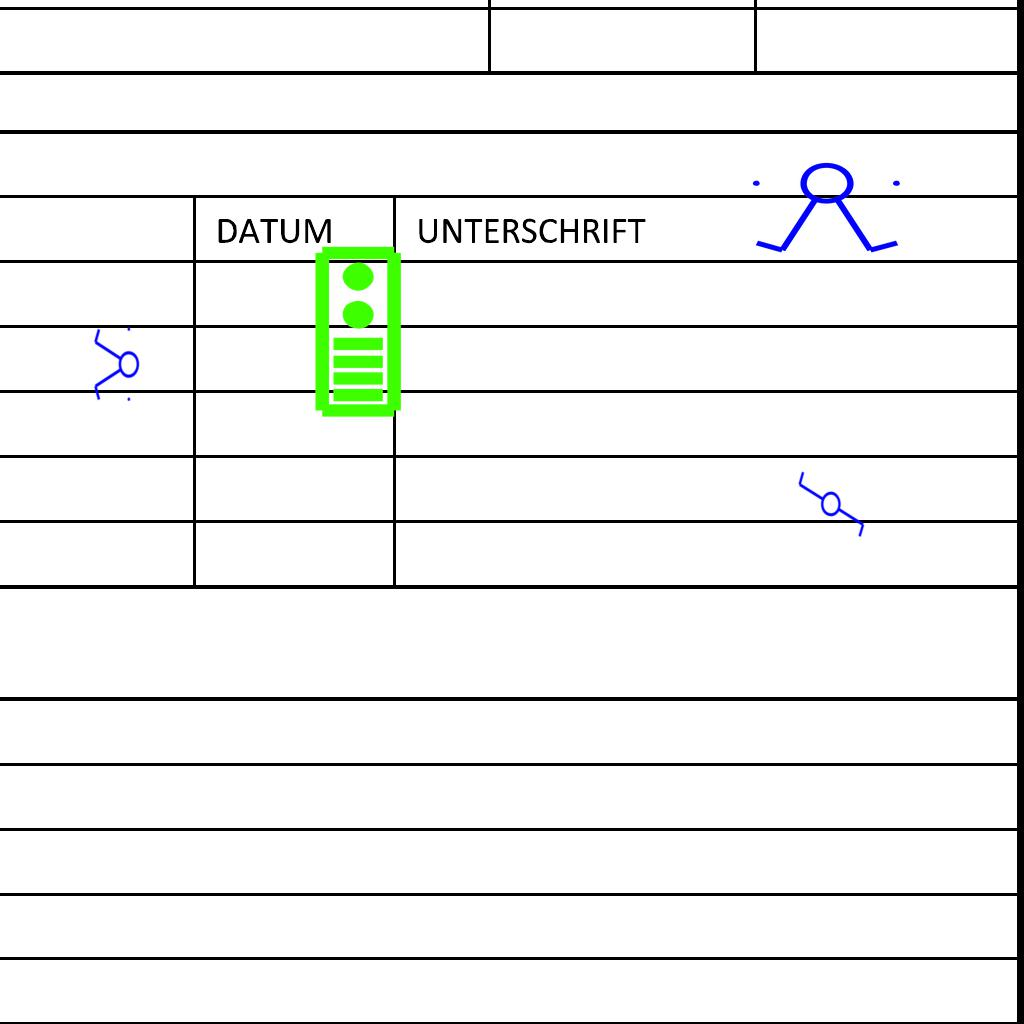Gegensprechanlage_mit_Video: (309, 243, 404, 419)
Serienschalter: (744, 161, 912, 257), (92, 323, 140, 407)
Wechselschalter: (796, 461, 868, 539)
